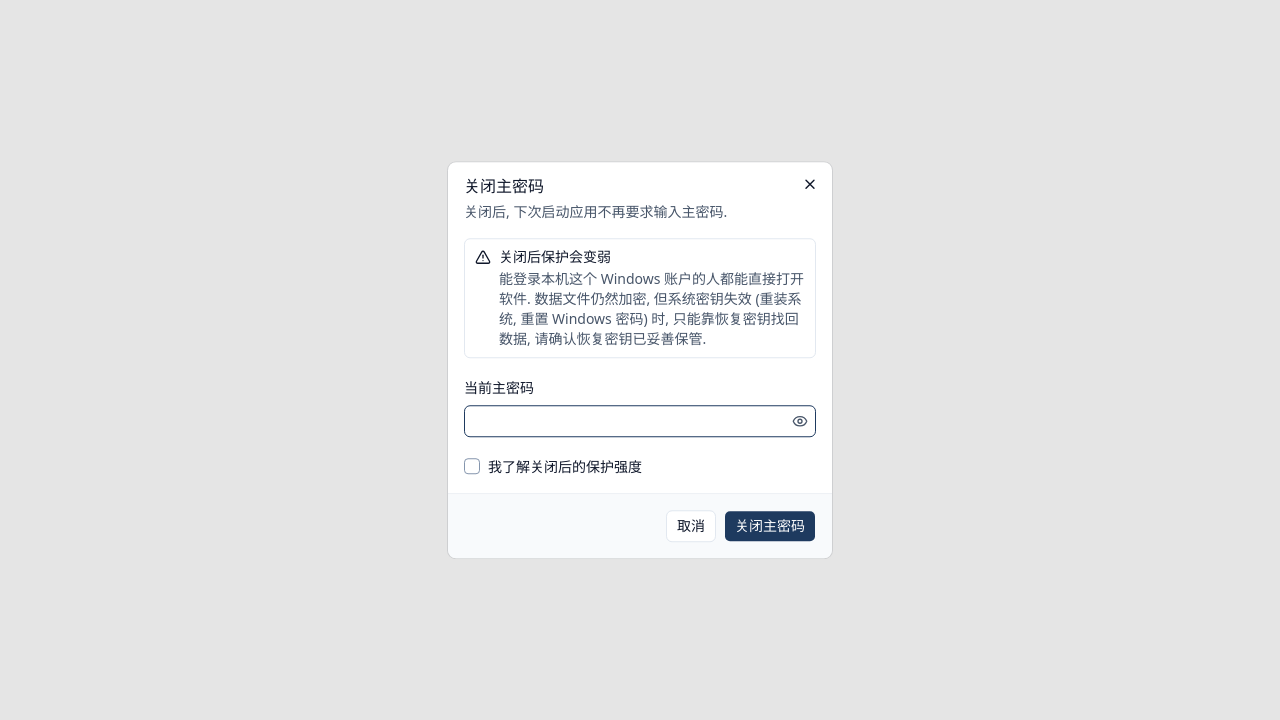
Test: 关闭主密码对话框: 确认门槛 › 两项都没做时两处都提示
The width and height of the screenshot is (1280, 720).
Click the button "关闭主密码" at (770, 526), box 724,510 -> 816,542
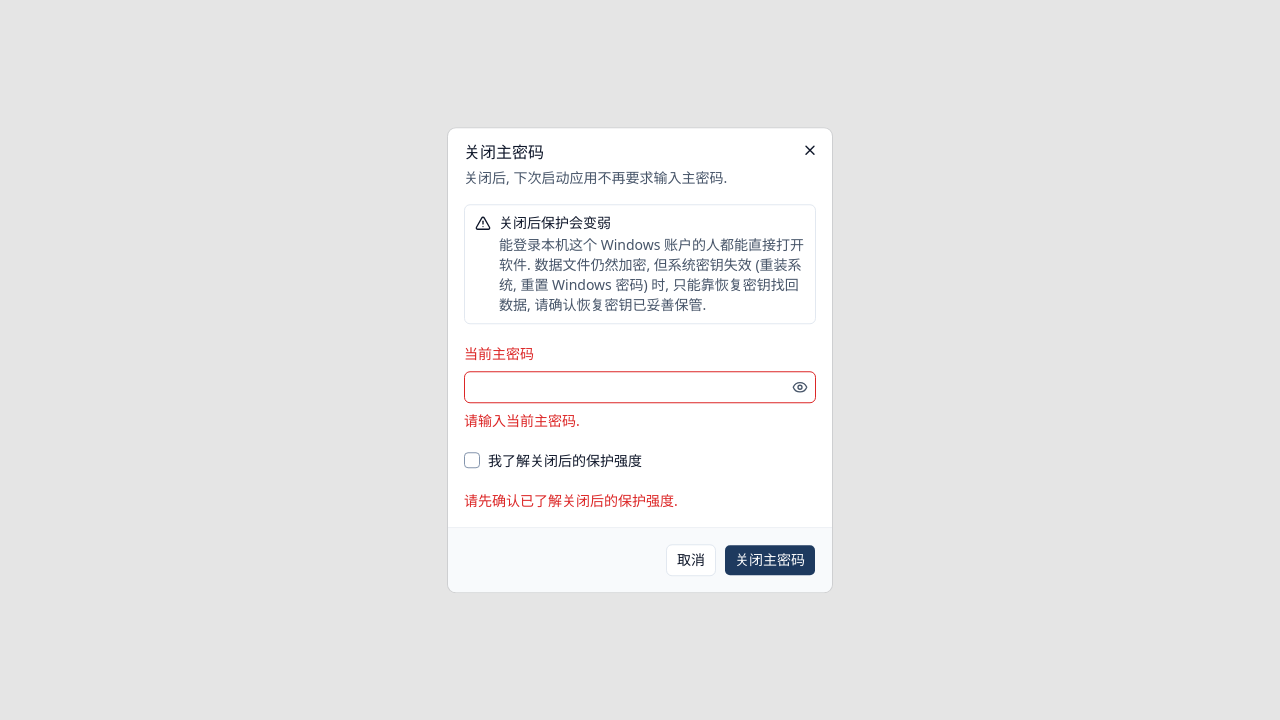
Result: the text "请输入当前主密码." is shown at 464,412 -> 580,430
Result: the text "请先确认已了解关闭后的保护强度." is shown at 464,491 -> 678,510
